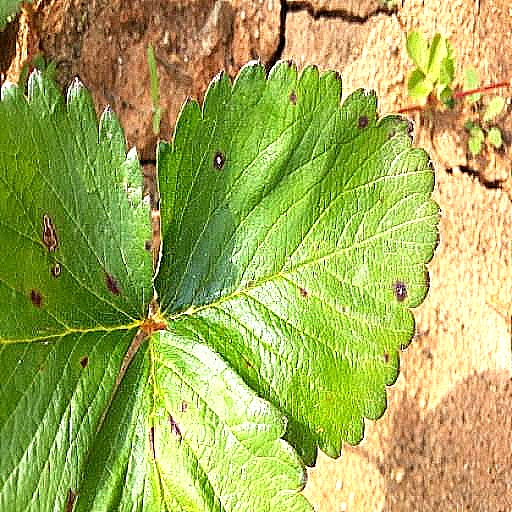Leaf Spot: (149, 44, 444, 452), (72, 0, 315, 185)
